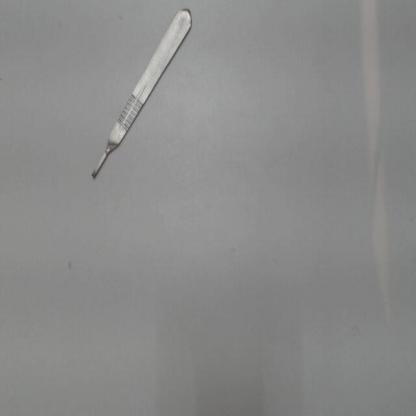No.3 BP Handle: (76, 8, 201, 192)
